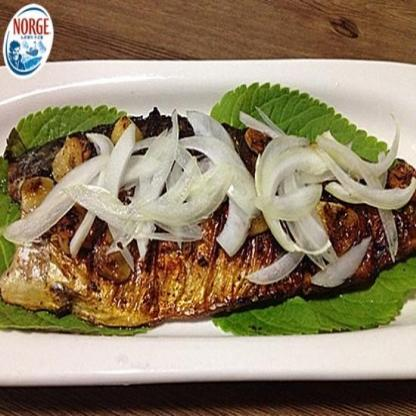Peixe: (0, 131, 416, 331)
